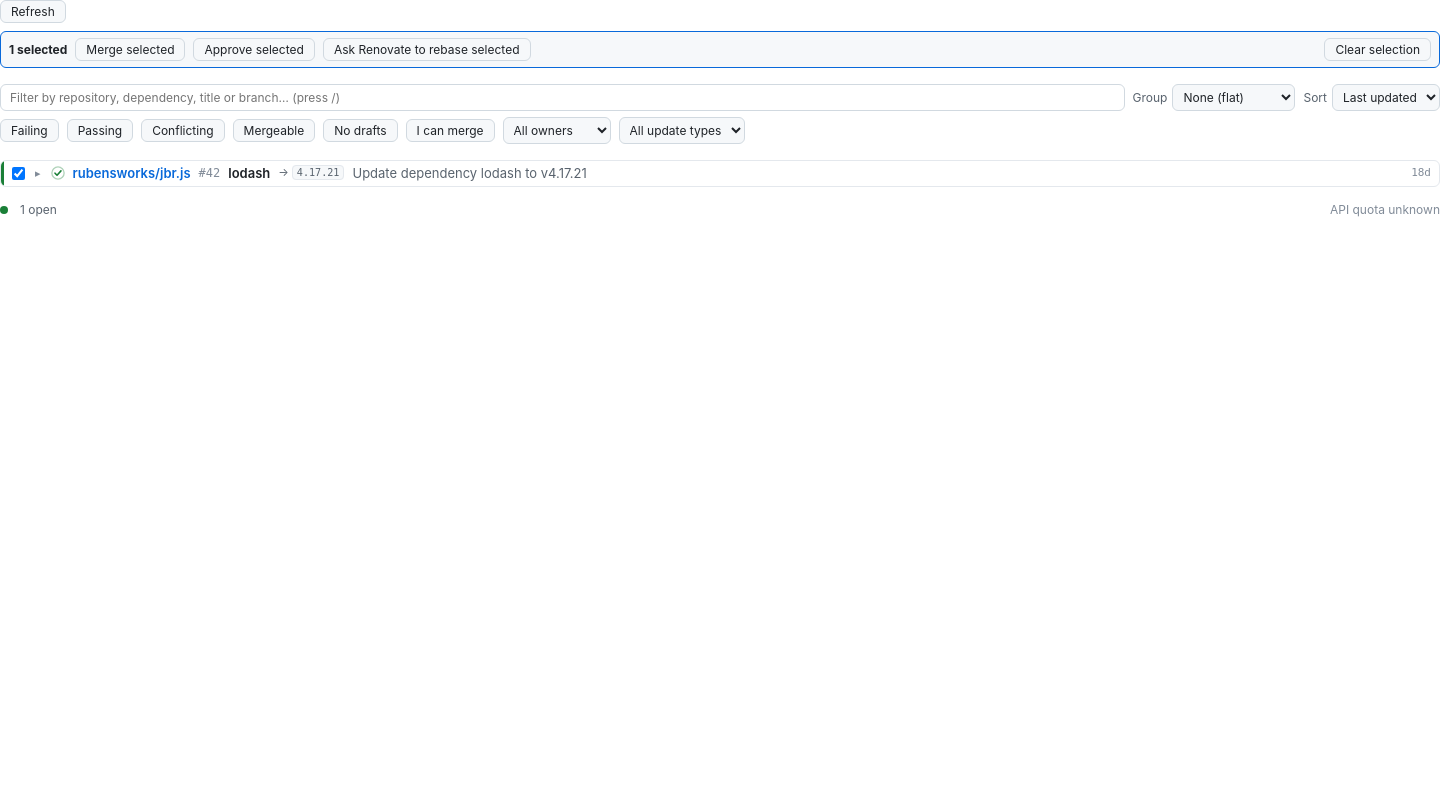
Test: Dashboard › actions › does nothing when the confirmation is cancelled
The image size is (1440, 810).
Click the button "Approve selected": (254, 50) [194,38,315,61]
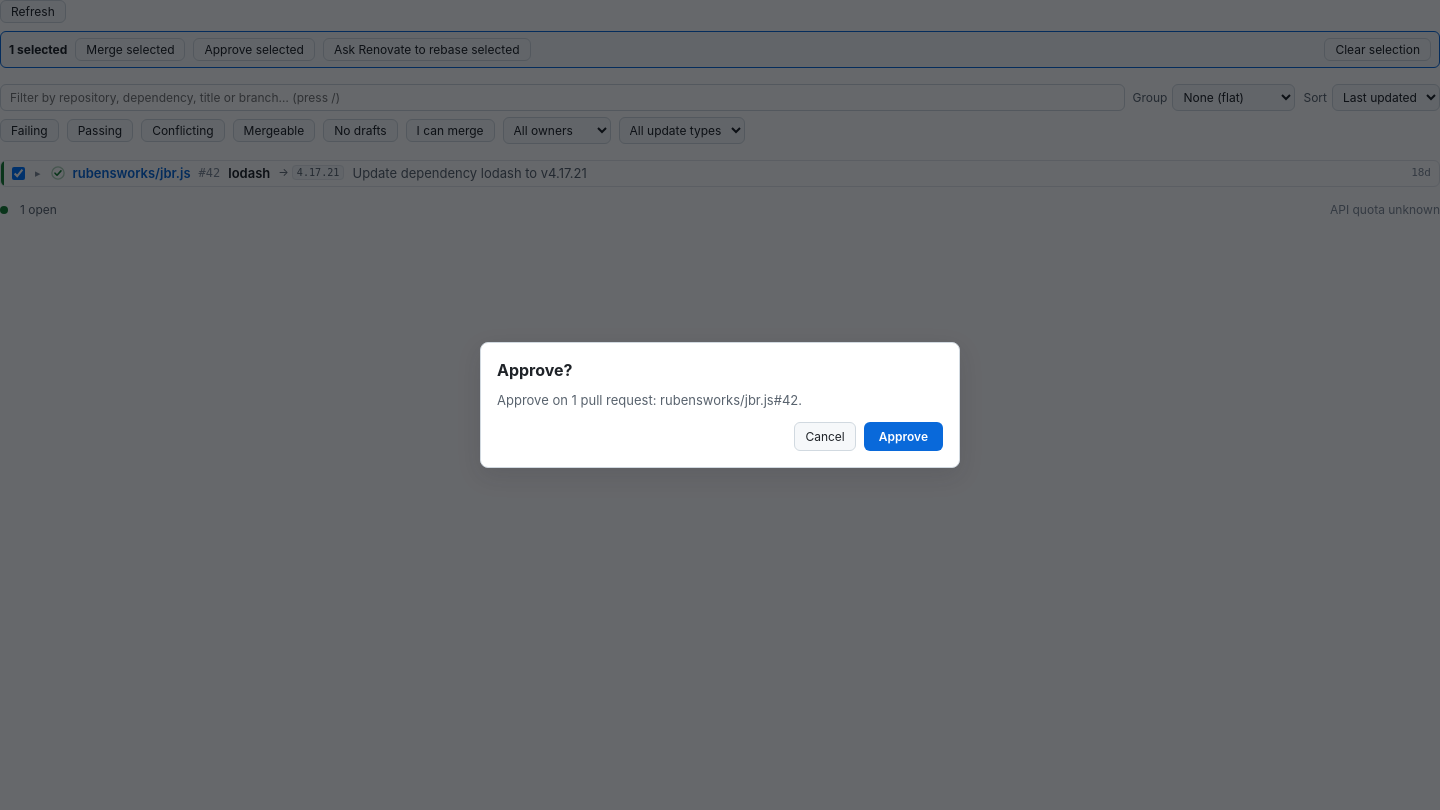
Click the button "Cancel": (825, 436) [794,422,856,450]
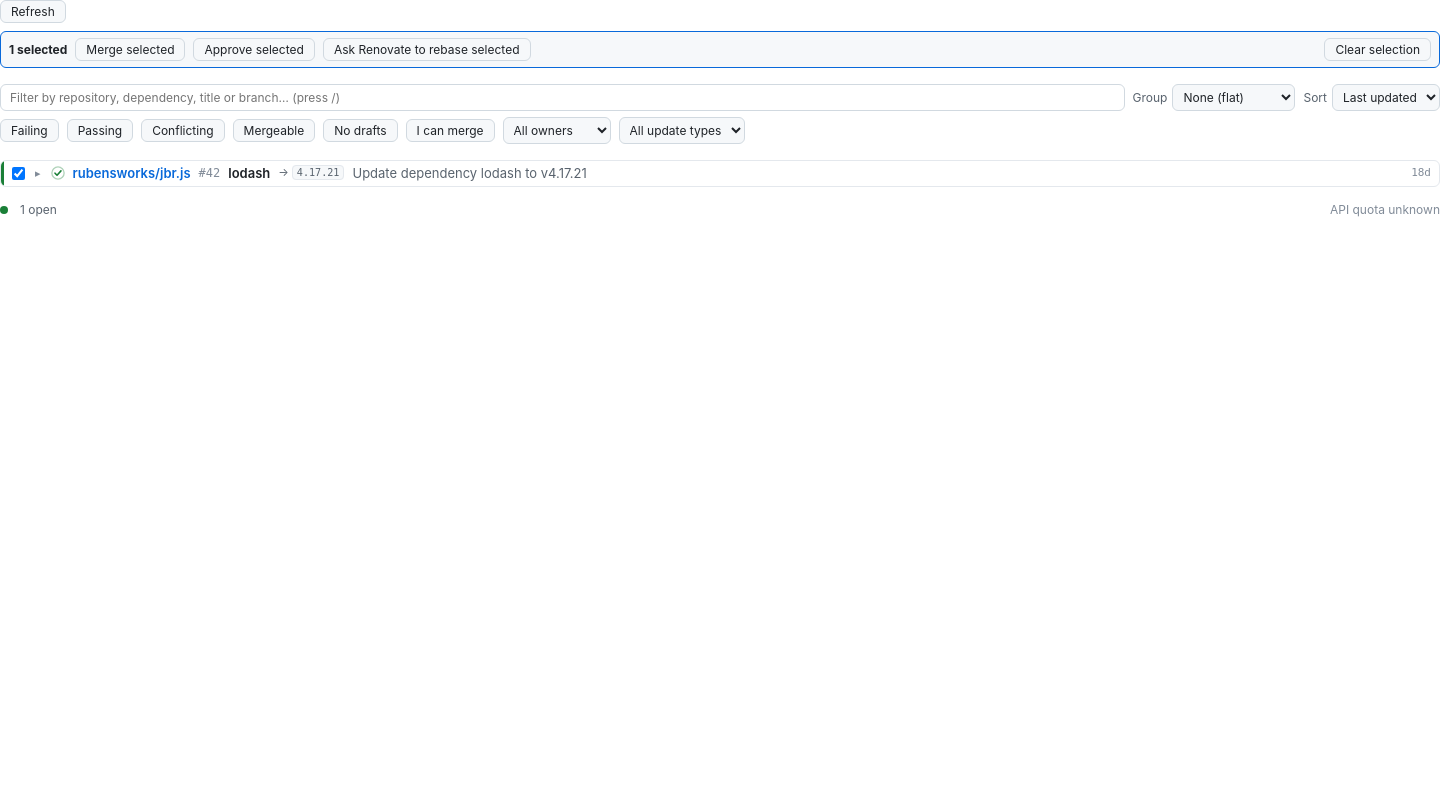
Check: the dialog is gone
